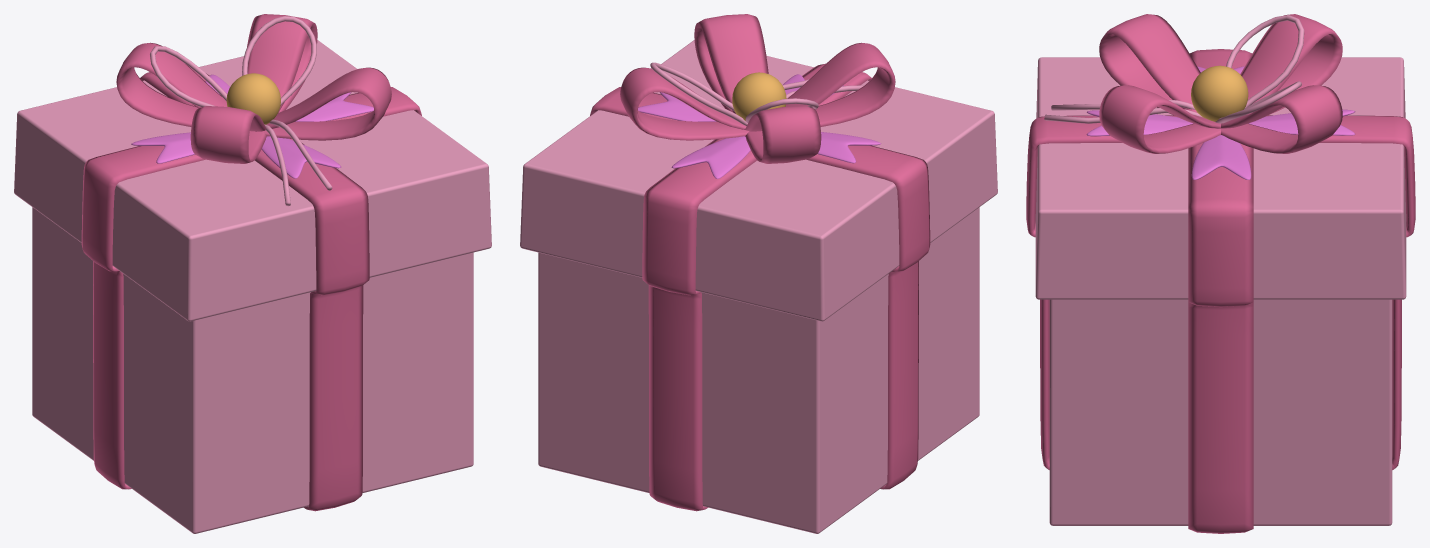
The picture shows the model from 3 angles, left to right: view 1: azimuth 30°, elevation 25°; view 2: azimuth 150°, elevation 25°; view 3: azimuth 270°, elevation 25°; orthographic projection. The views are drawn at different scales.
Visible parts, largest first — view 1: Giftbox01, Giftbox02, Giftbox03, Giftbox04, Giftbox05, Giftbox06; view 2: Giftbox01, Giftbox02, Giftbox03, Giftbox04, Giftbox05, Giftbox06; view 3: Giftbox01, Giftbox02, Giftbox03, Giftbox04, Giftbox05, Giftbox06.
Boxes of the visible parts, x1,y1,x2,y2 form: Giftbox01: (14, 40, 491, 533); Giftbox02: (81, 67, 421, 511); Giftbox03: (116, 14, 391, 163); Giftbox04: (131, 74, 373, 178); Giftbox05: (150, 16, 332, 206); Giftbox06: (226, 73, 280, 124); Giftbox01: (520, 40, 997, 533); Giftbox02: (590, 63, 930, 511); Giftbox03: (620, 14, 895, 163); Giftbox04: (638, 74, 881, 178); Giftbox05: (650, 62, 864, 125); Giftbox06: (732, 72, 786, 120); Giftbox01: (1035, 57, 1406, 525); Giftbox02: (1026, 49, 1415, 533); Giftbox03: (1099, 14, 1342, 153); Giftbox04: (1086, 66, 1355, 179); Giftbox05: (1044, 15, 1304, 123); Giftbox06: (1191, 65, 1248, 121).
Size of the model in its own units: 2.18 by 2.55 by 2.18.
